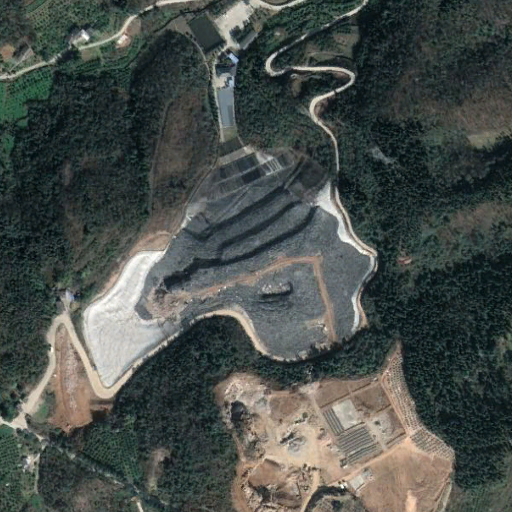lf: (82, 141, 376, 397)
